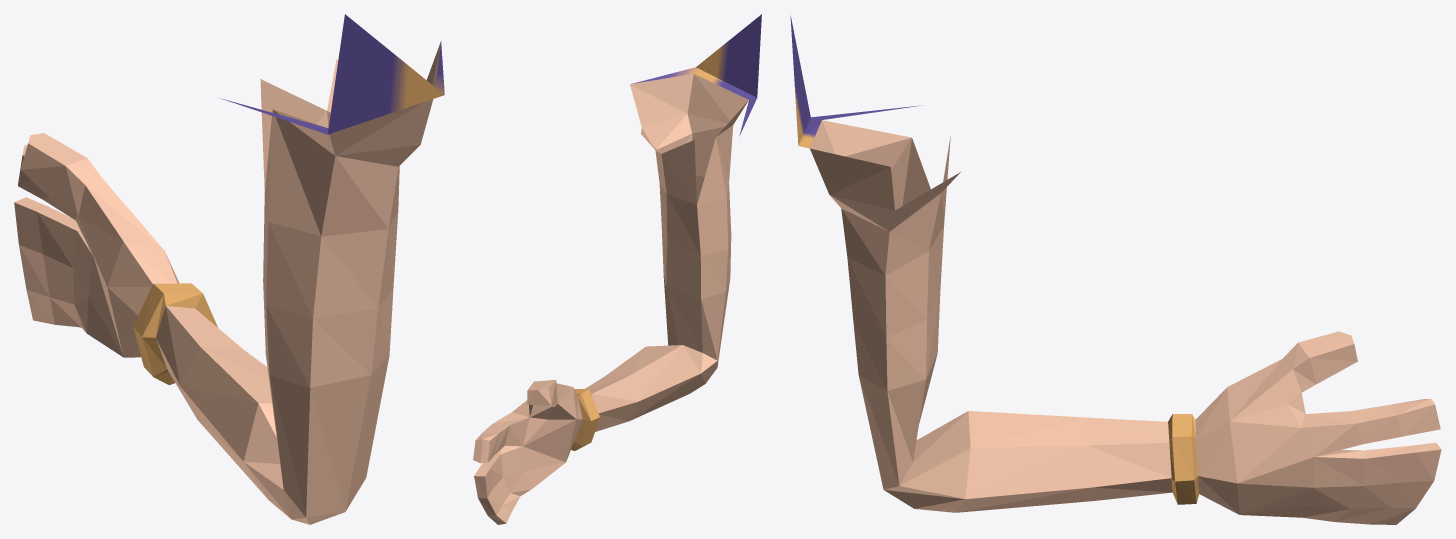
File: Mother_02_ArmR_93.obj
3 renders of one model, left to right at view 1: azimuth 30°, elevation 25°; view 2: azimuth 150°, elevation 25°; view 3: azimuth 270°, elevation 25°, orthographic. The views are drawn at different scales.
Visible parts, largest first — view 1: Mother_02_ArmR_93; view 2: Mother_02_ArmR_93; view 3: Mother_02_ArmR_93.
Part boxes in pixels (bbox=[...]): Mother_02_ArmR_93: bbox=[14, 14, 444, 524]; Mother_02_ArmR_93: bbox=[473, 14, 761, 524]; Mother_02_ArmR_93: bbox=[790, 14, 1441, 524].
Size of the model in its own units: 0.1784 by 0.4986 by 0.6076.
1 material, 1 textured.
